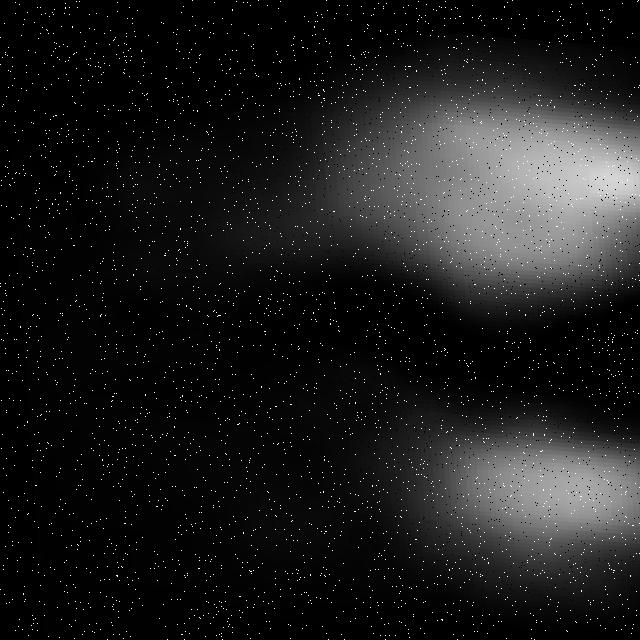person: (87, 72, 640, 296), (308, 396, 640, 574)
